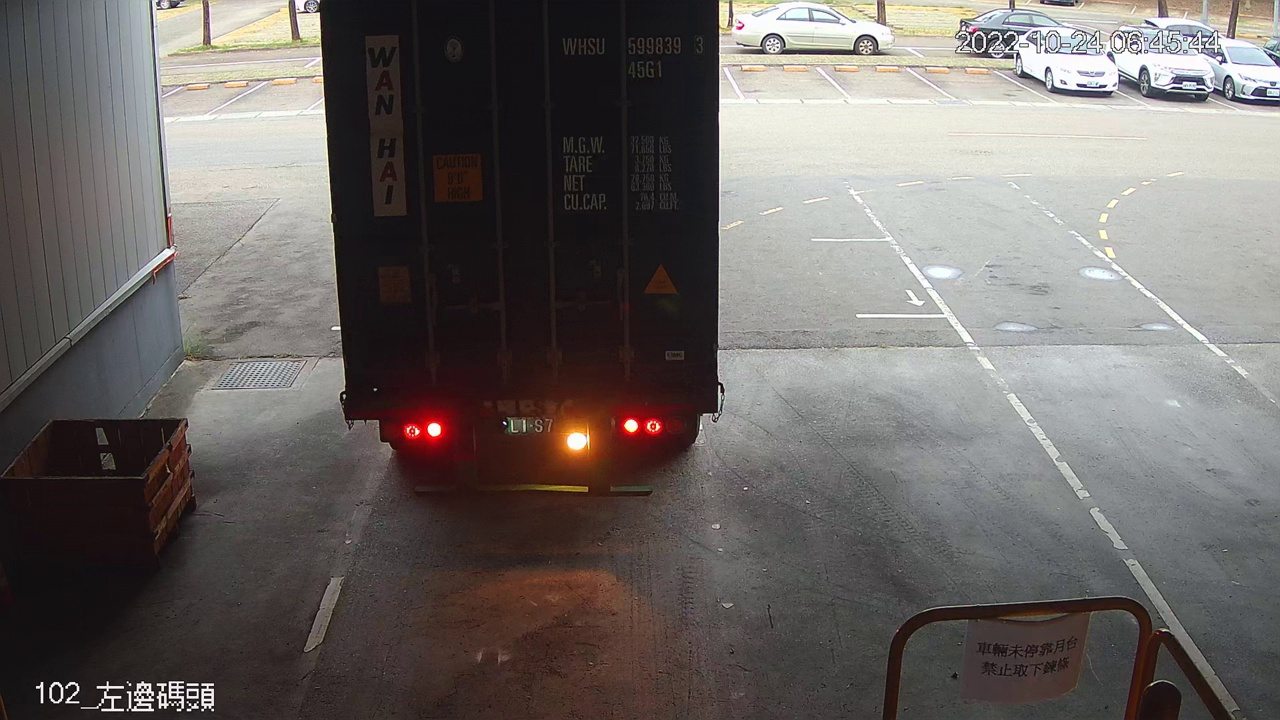container: (554, 26, 710, 85)
